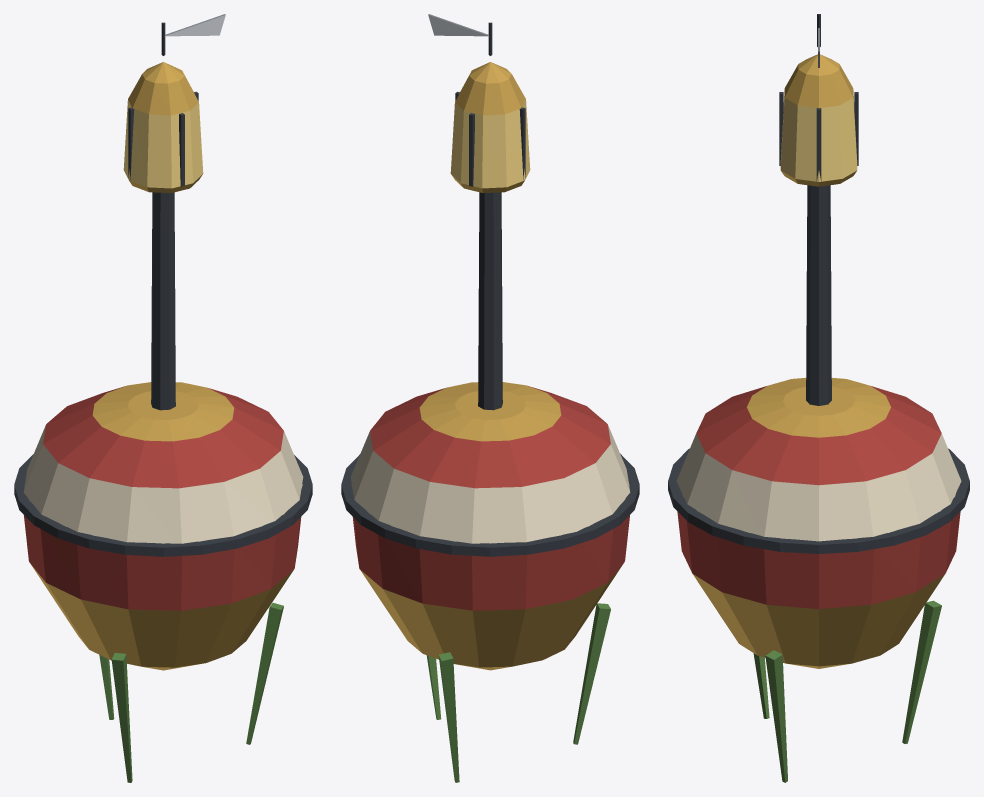
The model's file is ChartBuoy.obj.
3 views of the same model, side by side, from view 1: azimuth 30°, elevation 25°; view 2: azimuth 150°, elevation 25°; view 3: azimuth 270°, elevation 25° (orthographic).
Bounding box in the file's own units: 4.18 × 11.21 × 4.18.
